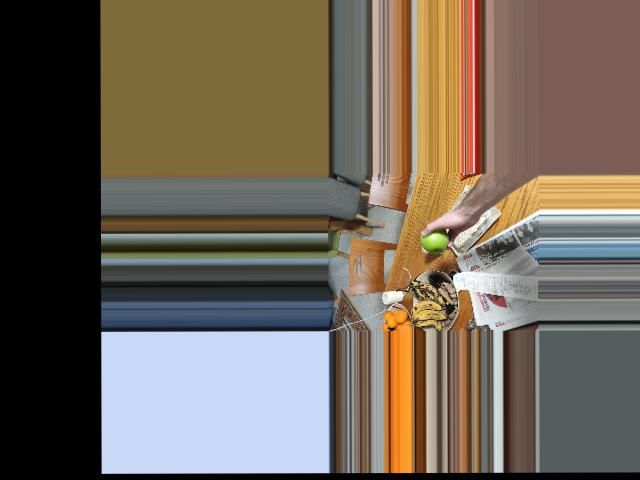apple: (419, 224, 453, 253)
